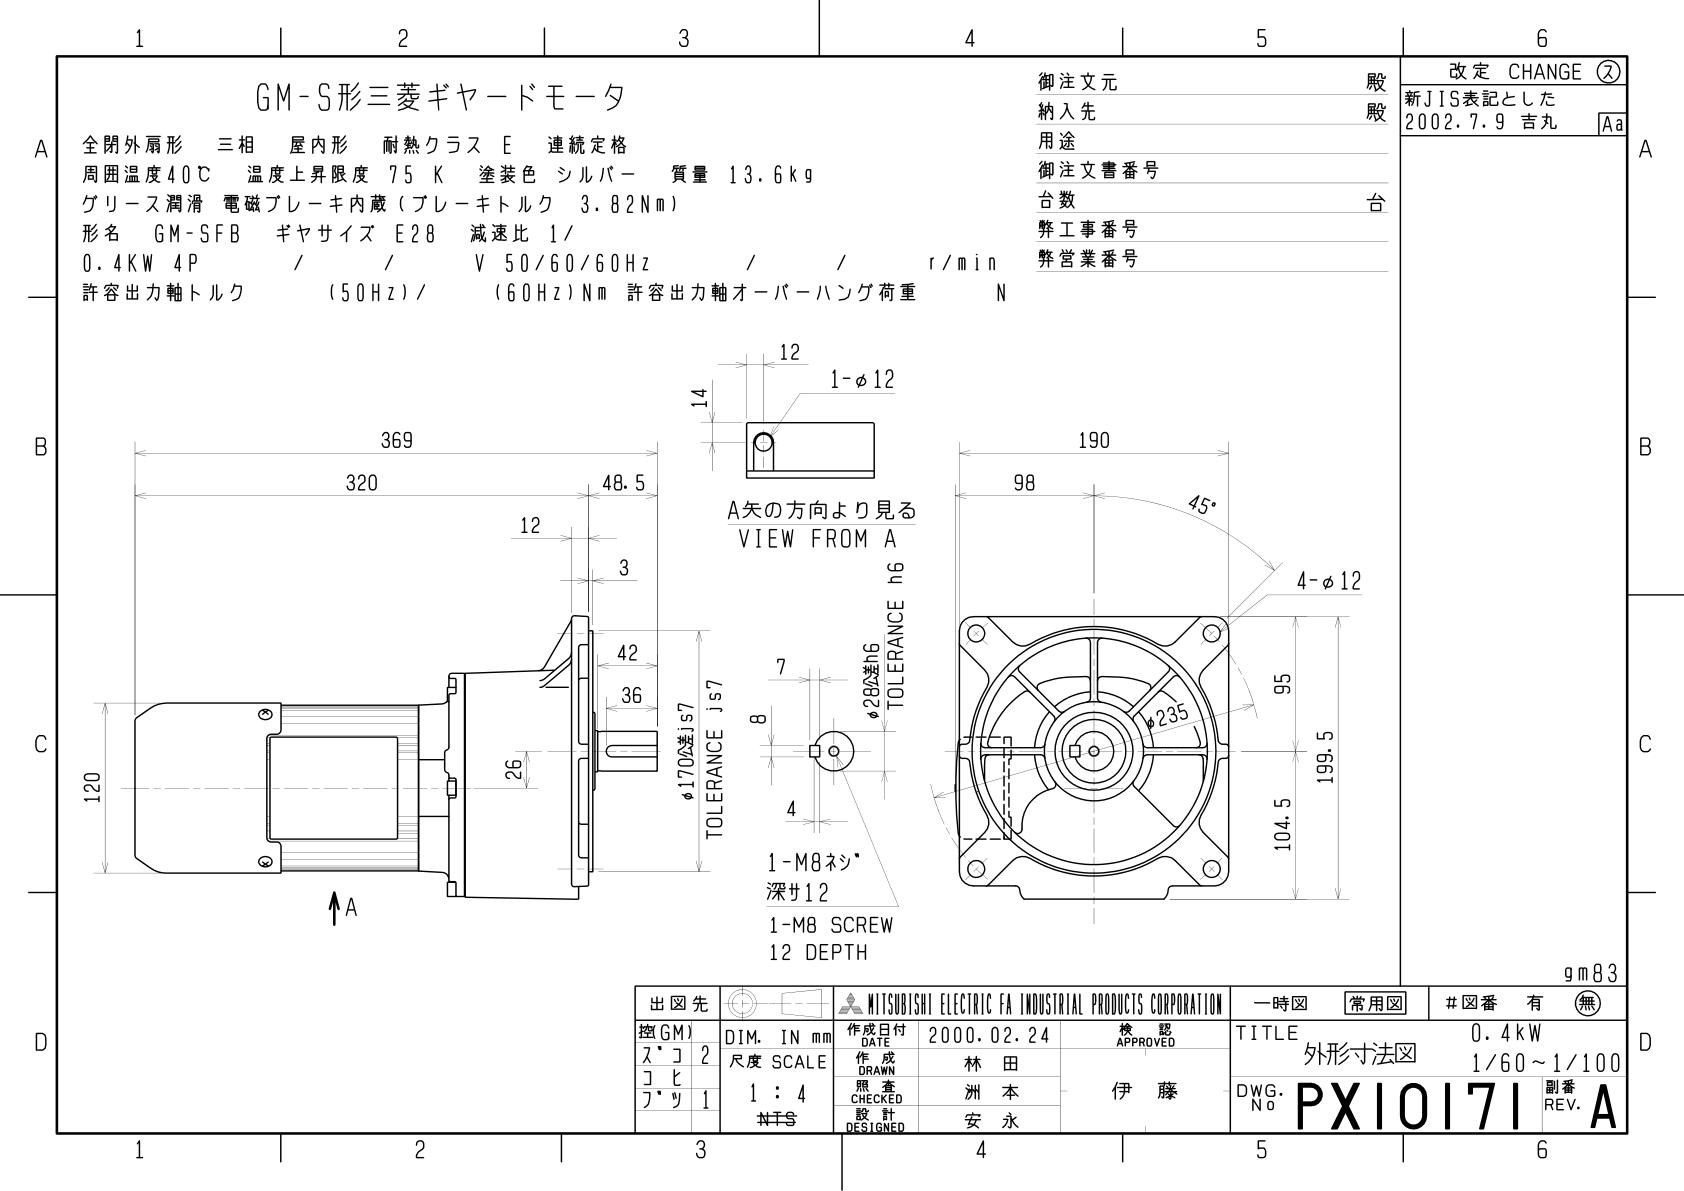GM_S_屋内＿三相_フランジ: (70, 331, 1371, 969)
